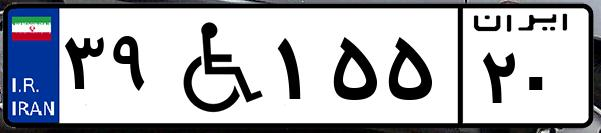0: (525, 38, 570, 115)
1: (270, 28, 330, 110)
2: (475, 38, 525, 113)
3: (57, 26, 110, 100)
5: (385, 28, 445, 110), (330, 28, 385, 110)
9: (110, 28, 158, 98)
ژ (معلولین و جانبازان): (158, 12, 270, 120)
